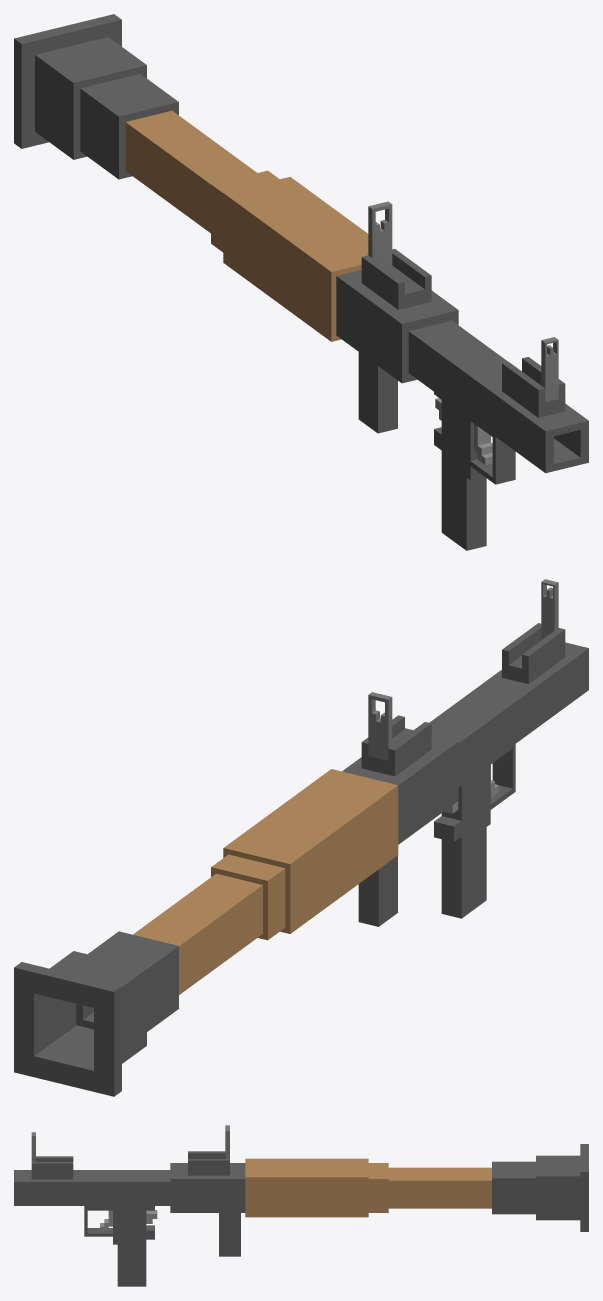
The model's file is rpg.fbx.
3 renders of one model, top to bottom at view 1: azimuth 30°, elevation 25°; view 2: azimuth 150°, elevation 25°; view 3: azimuth 270°, elevation 25°, orthographic. The views are drawn at different scales.
Parts seen in each view (by area): view 1: rpg_base; view 2: rpg_base; view 3: rpg_base.
Boxes of the visible parts, <box> form: rpg_base: <box>14,14,588,550</box>; rpg_base: <box>14,579,588,1096</box>; rpg_base: <box>14,1125,588,1286</box>.
Bounding box in the file's own units: 18 × 46.8 × 157.
